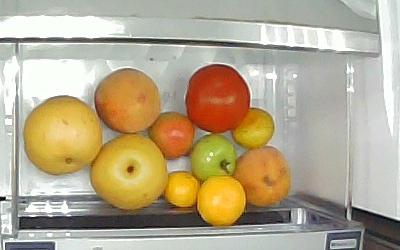peach: (95, 68, 160, 134), (234, 146, 292, 207)
pear: (23, 96, 103, 176), (91, 135, 168, 210)
tangerine: (197, 177, 245, 227), (232, 107, 276, 149), (166, 171, 201, 206)
tomato: (187, 65, 250, 134), (147, 112, 195, 159), (191, 135, 236, 180)
